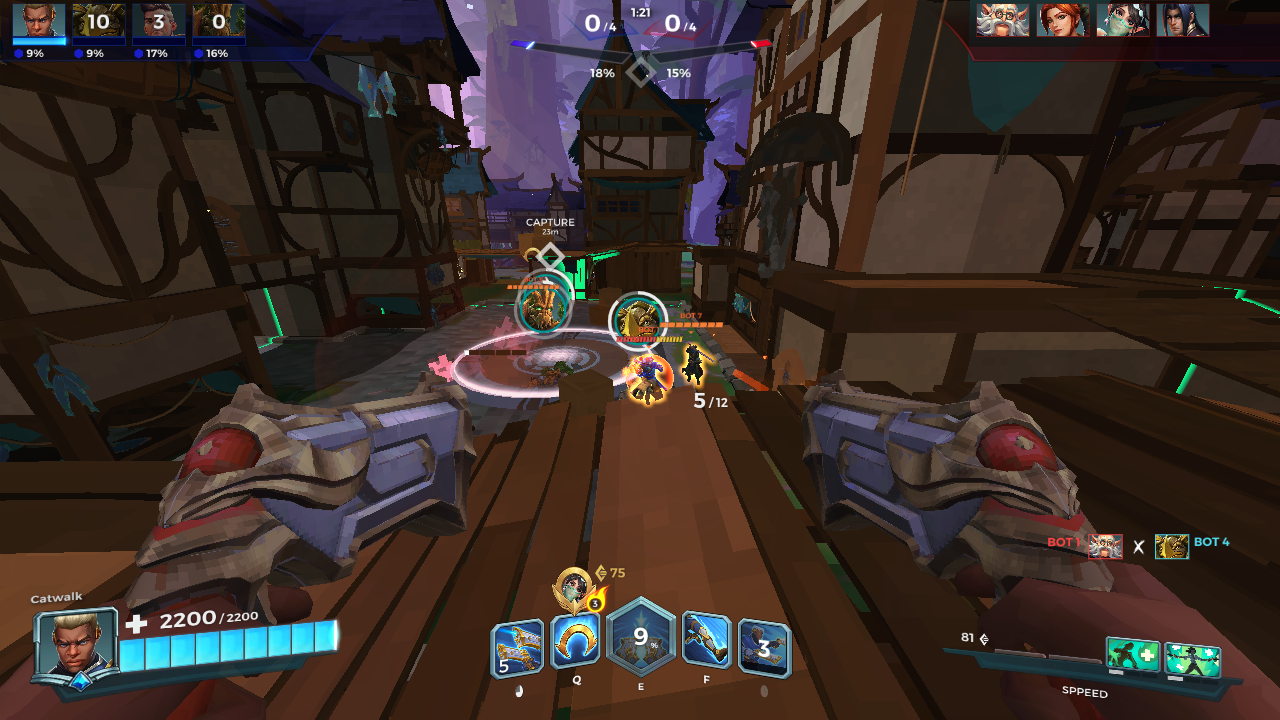model: (624, 356, 674, 409), (676, 337, 715, 394)
